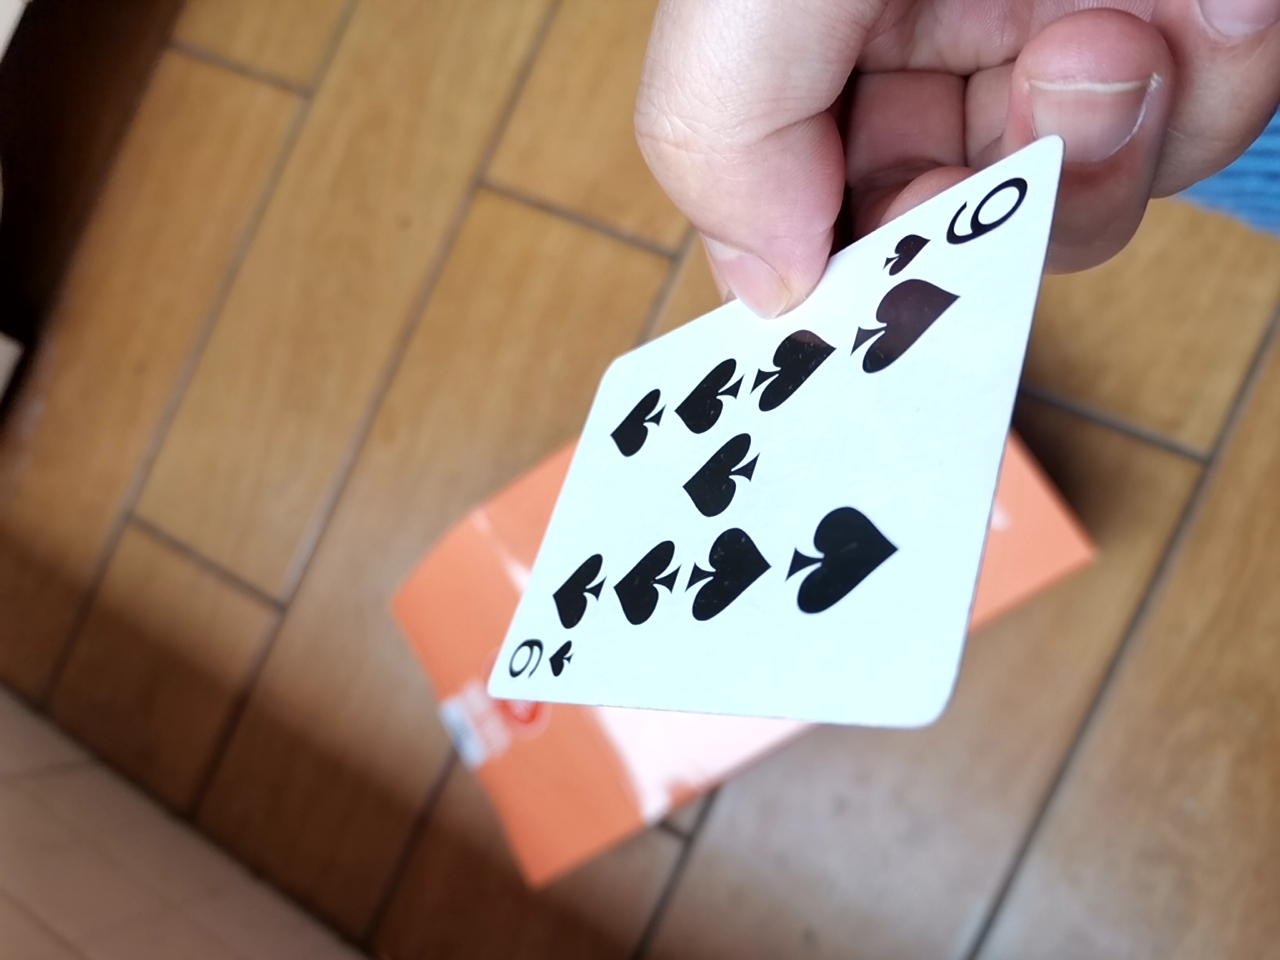ht 9: (484, 166, 1042, 785)
